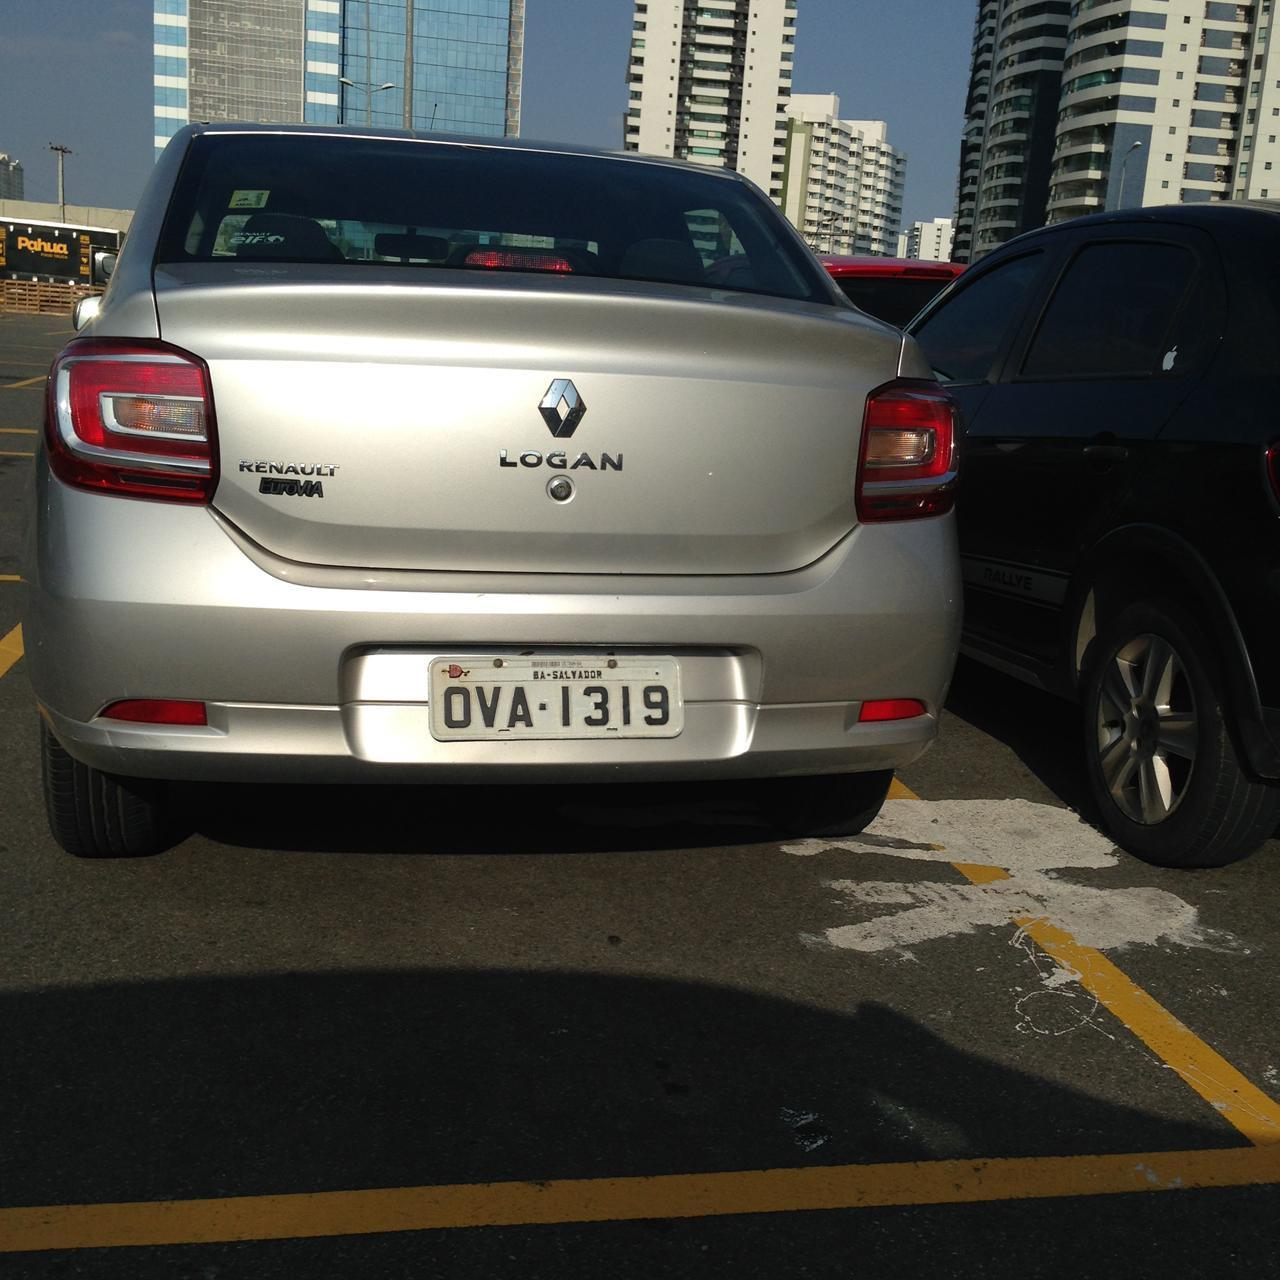placa de veiculo: (408, 622, 693, 787)
